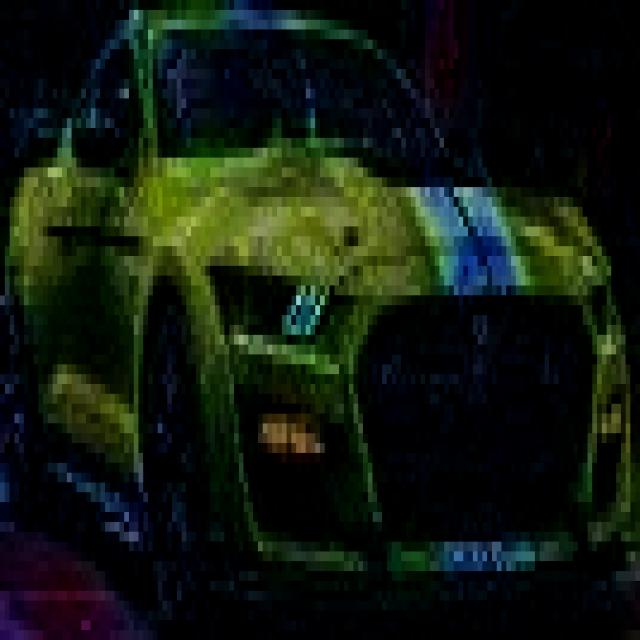green: (5, 10, 630, 630)
